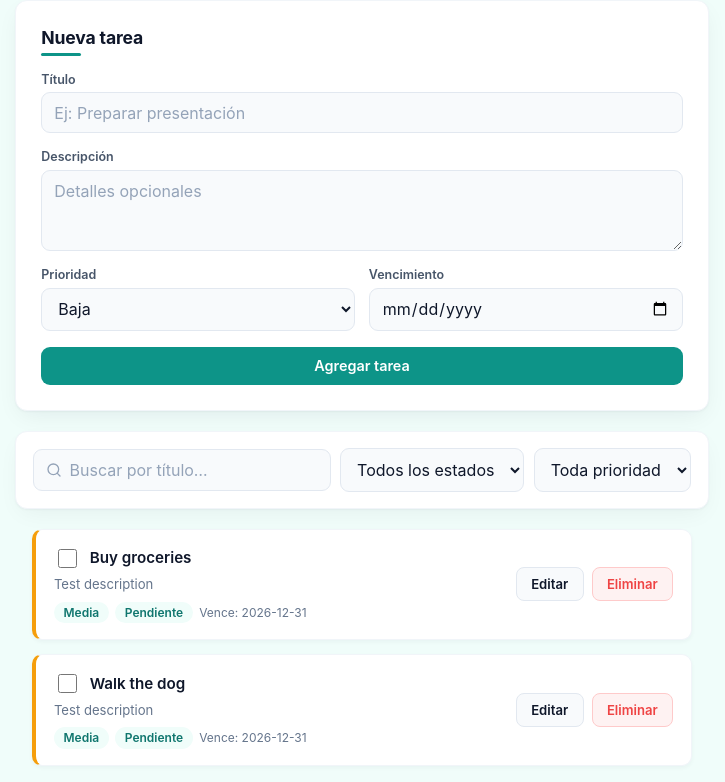
Scenario: FilteredTaskList › filters tasks by search term
Type "groceries" into the search field with placeholder "Buscar por título…". click: (182, 470)
box: [33,449,330,490]
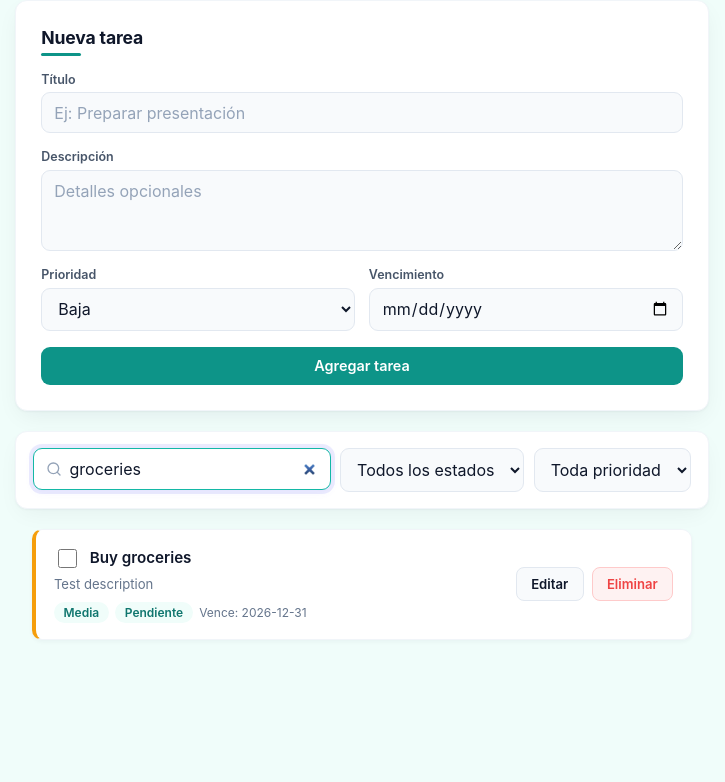
Check: the text "Buy groceries" is shown, box [90,548,192,569]
Check: the text "Walk the dog" is gone
